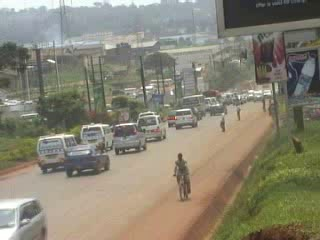Car: (0, 195, 52, 239), (61, 144, 110, 177), (112, 121, 148, 156), (136, 113, 167, 143), (173, 106, 198, 132), (184, 103, 203, 121), (208, 100, 229, 116), (166, 109, 175, 129)
